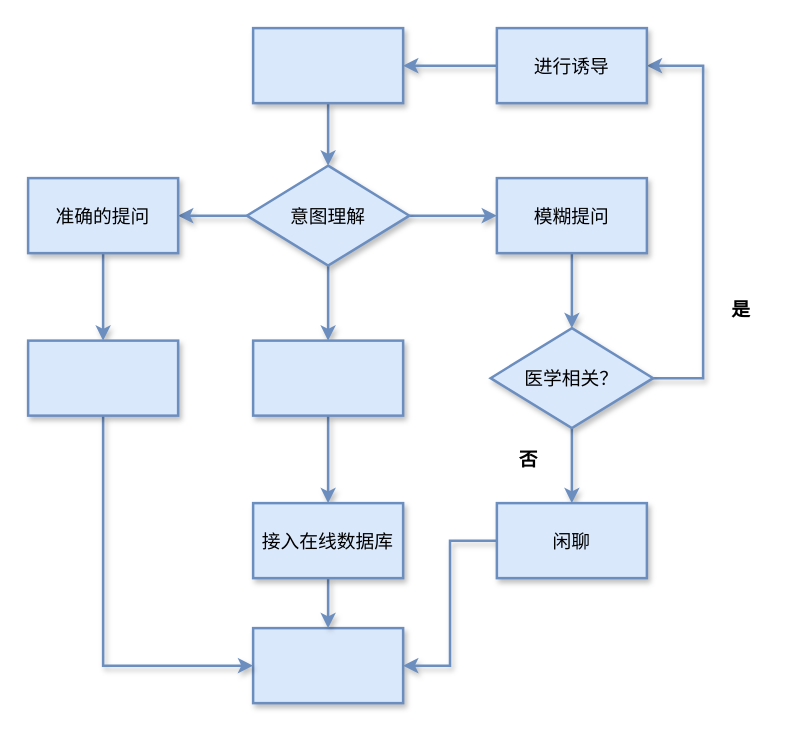
This 794x734 diagram has some shape labels left out. The centre of each missing label's shape, as x and y in pixels:
实时类的提问: point (328, 379)
接入离线数据库: point (103, 379)
生成查询结果: point (328, 666)
用户输入: point (328, 66)
